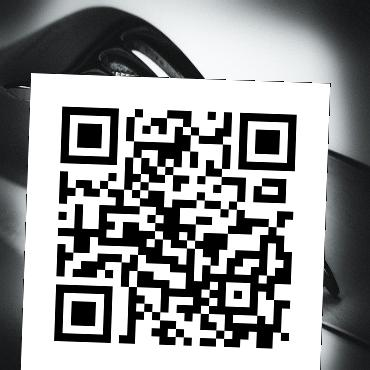qr_code: (20, 66, 330, 370)
